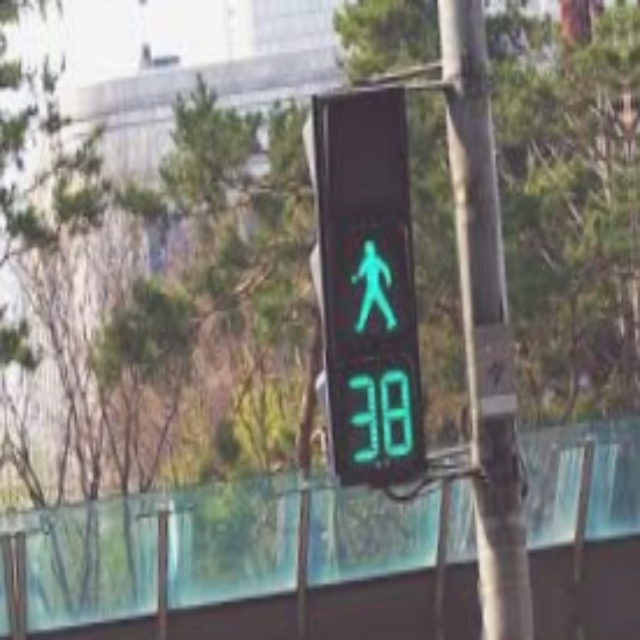green_light: (343, 364, 414, 472), (342, 230, 400, 346)
